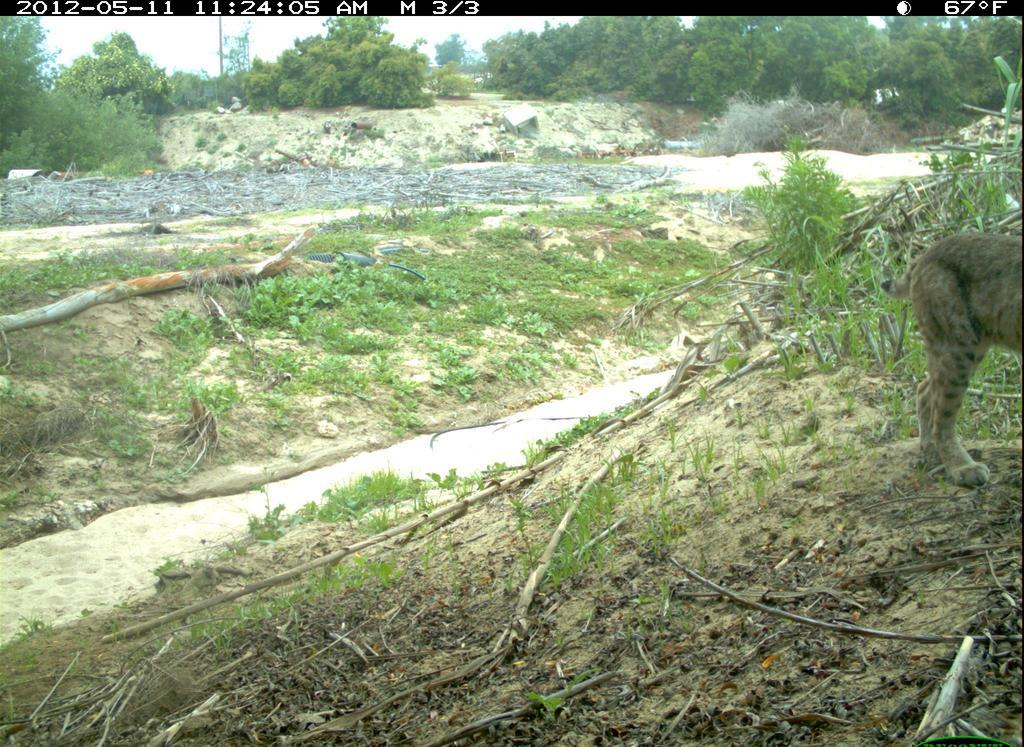bobcat: (870, 226, 1022, 495)
